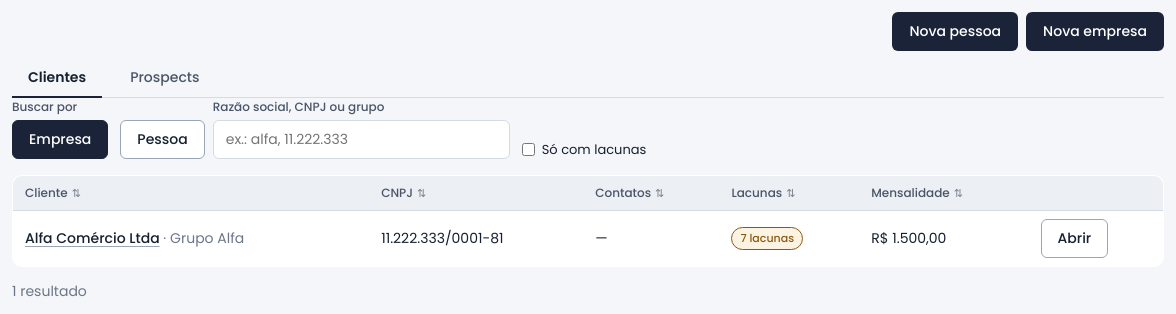
Scenario: Contatos — clientes e prospects separados › pessoa com 'não contatar' aparece marcada
Click the button "Pessoa". click: [163, 140]
box: x1=120 y1=120 x2=205 y2=159
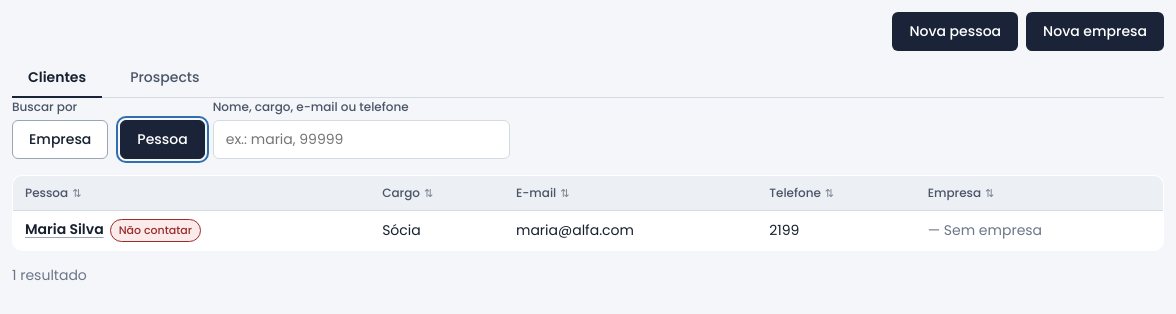
Check: the text "Não contatar" is shown, box x1=110 y1=219 x2=201 y2=242
